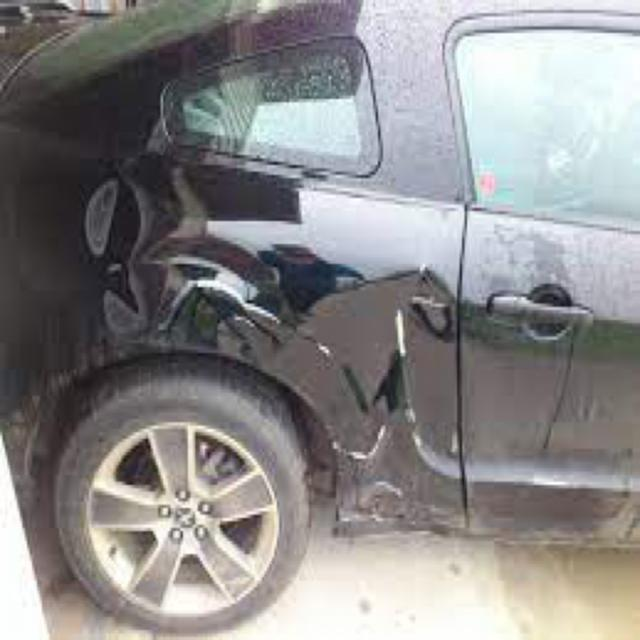car damage: (200, 142, 462, 535), (13, 165, 376, 423)
